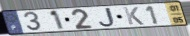1: (49, 10, 66, 31), (145, 5, 160, 25)
2: (70, 8, 95, 31)
3: (22, 10, 44, 32)
J: (97, 7, 117, 28)
K: (123, 6, 146, 26)
